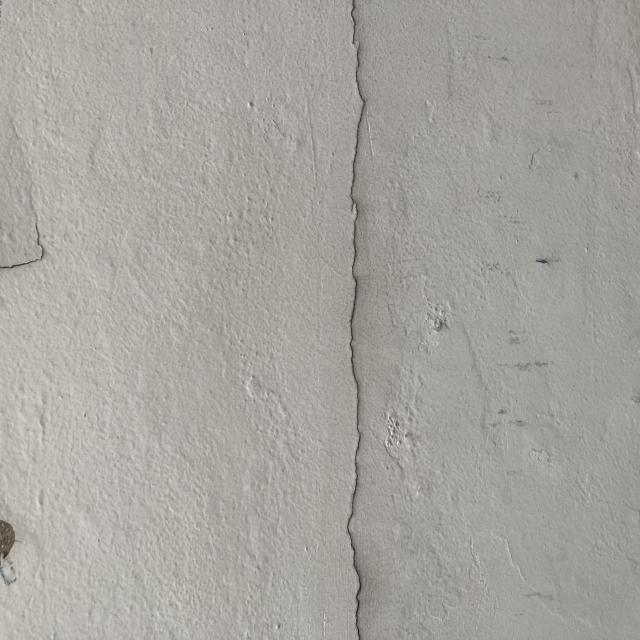SurfaceCrack: (302, 1, 414, 640)
